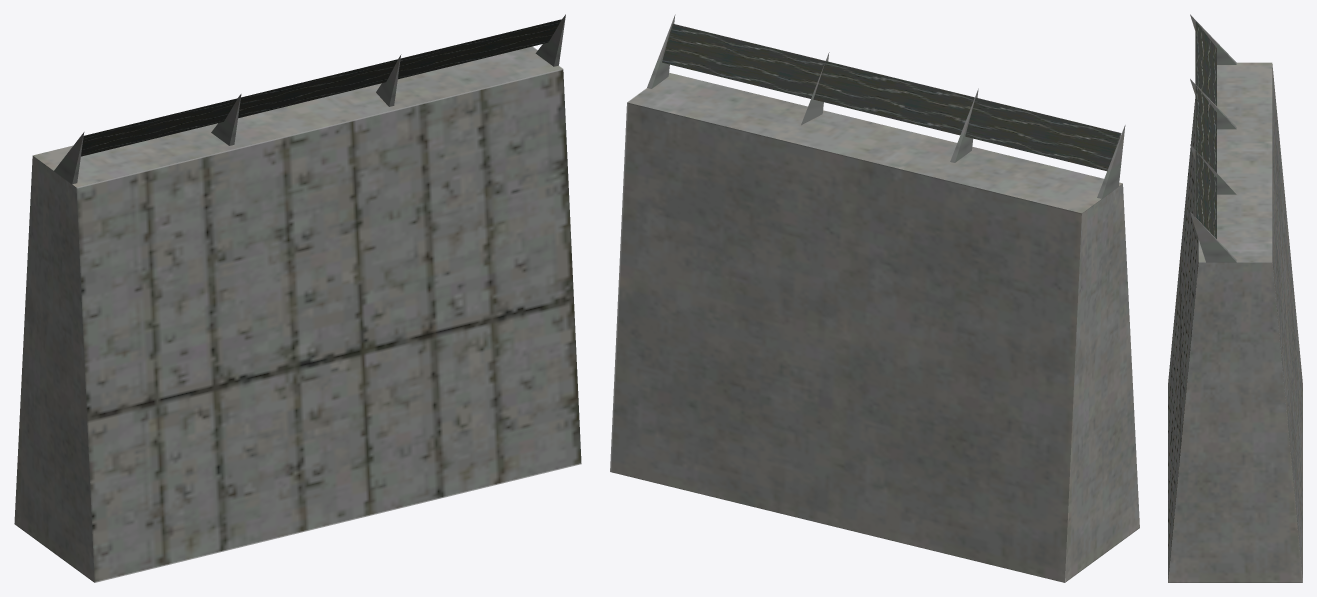
The model's file is mun_all_military_wall_strong_impl_s01_l2.fbx.
The picture shows the model from 3 angles, left to right: view 1: azimuth 30°, elevation 25°; view 2: azimuth 150°, elevation 25°; view 3: azimuth 270°, elevation 25°; orthographic projection. The views are drawn at different scales.
Parts seen in each view (by area): view 1: mesh_node; view 2: mesh_node; view 3: mesh_node.
Part boxes in pixels (x1,y1,x2,y2): mesh_node: [14, 14, 581, 582]; mesh_node: [610, 14, 1139, 582]; mesh_node: [1168, 14, 1302, 582].
Size of the model in its own units: 8 by 6.93 by 2.29.
Materials: 2 (2 with a texture image).
